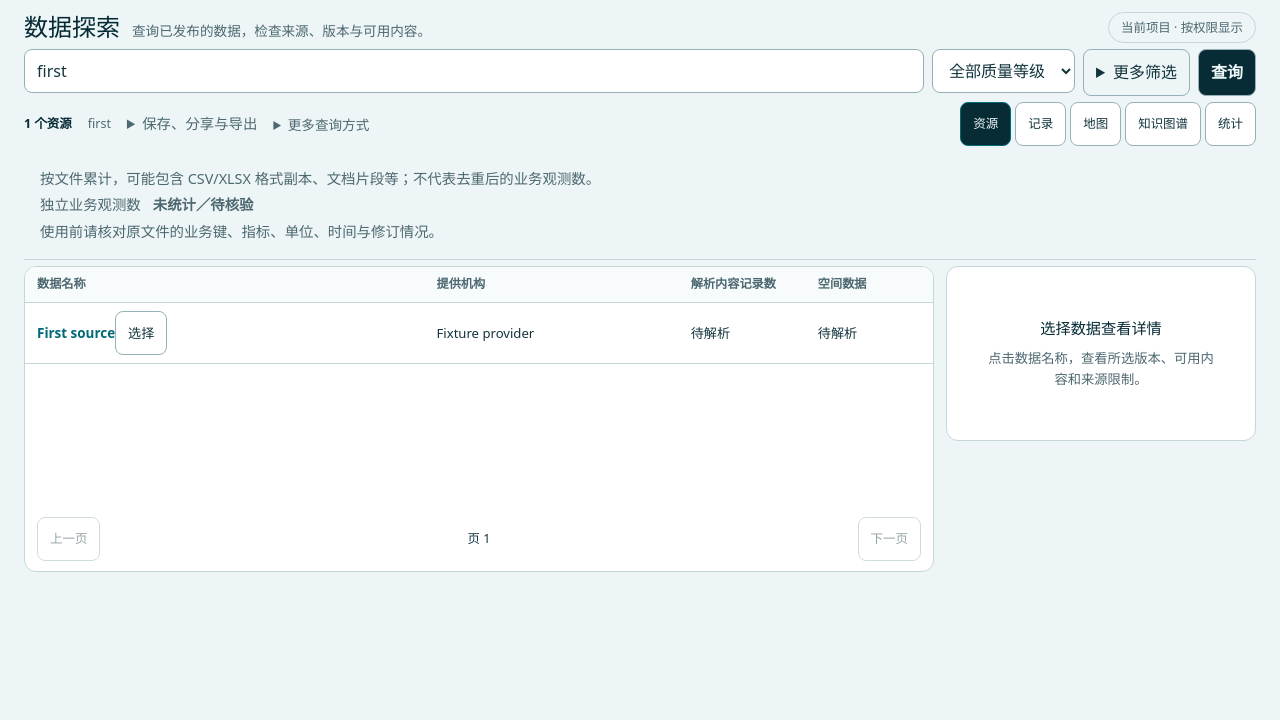
Scenario: exploration query navigation › keeps recoverable failures local and supports keyboard view navigation and clearing selection
Click the button with aria-label "First source" at (141, 333), box [115,311,167,355]
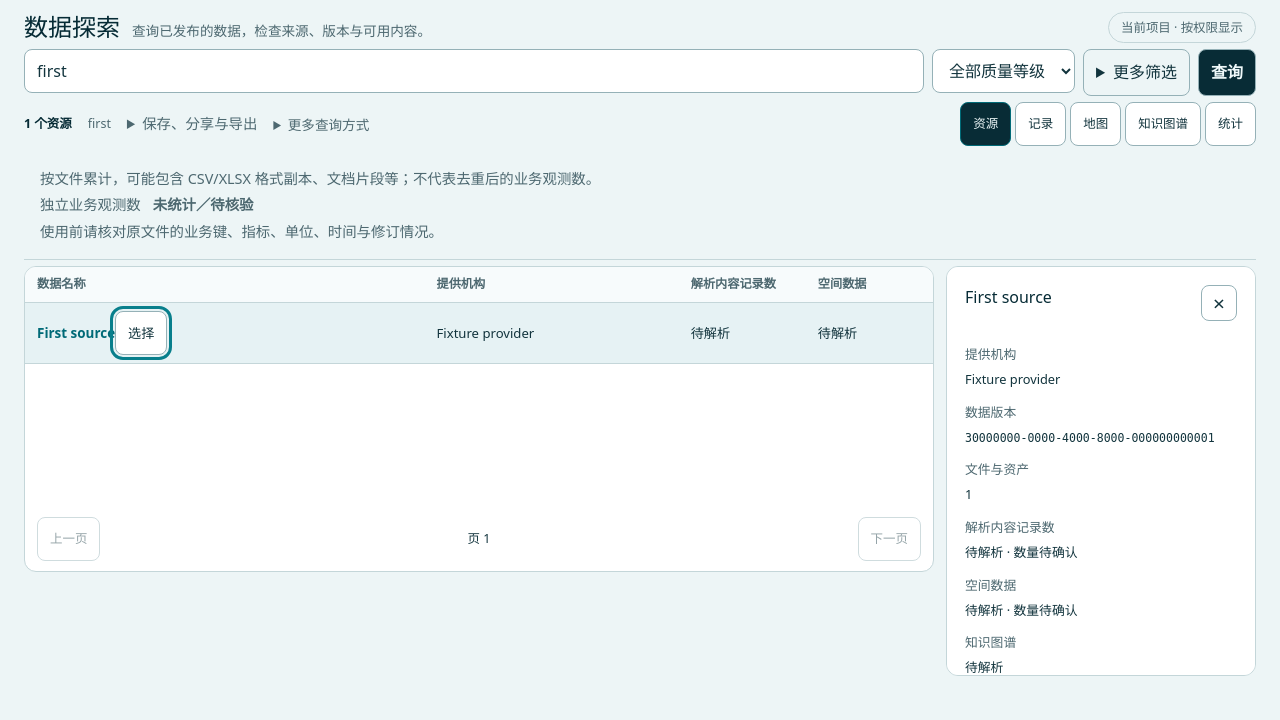
Click the button "×" at (1219, 303), box [1201,285,1237,321]
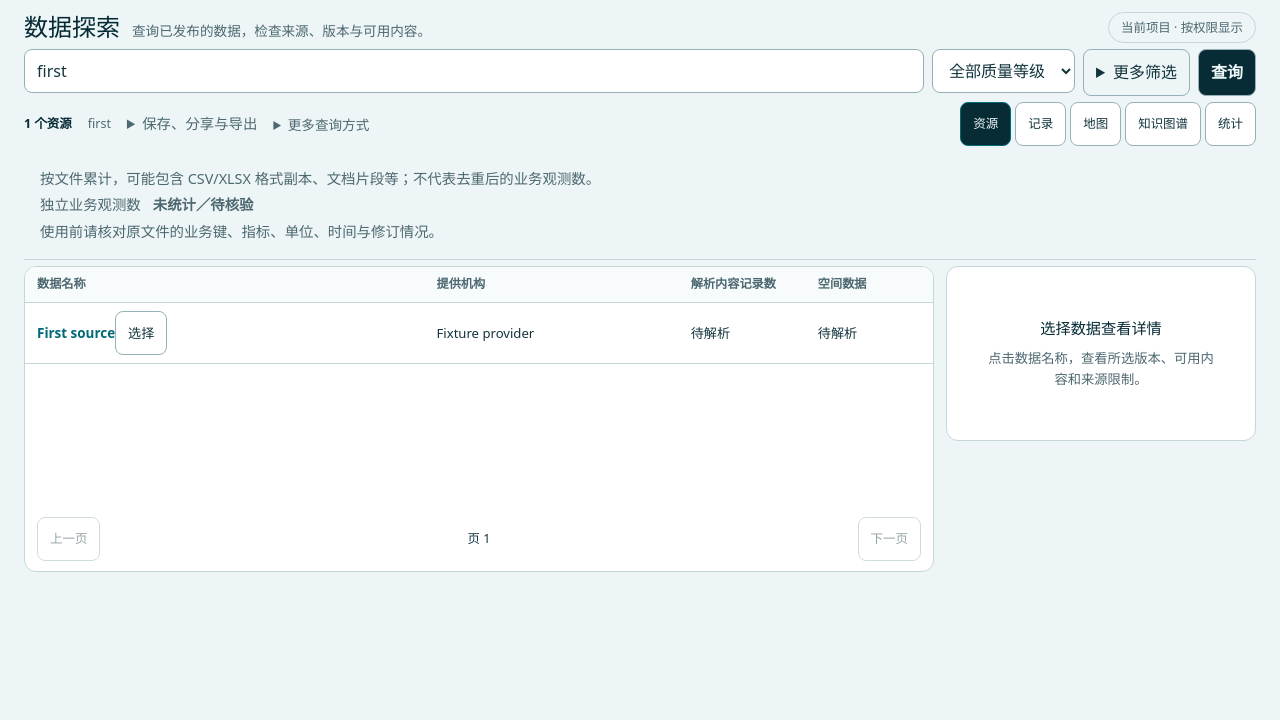
Check: the heading "选择数据查看详情" is shown, box [1040,318,1162,338]
Click the tab "资源" at (986, 124), box [960,102,1011,146]
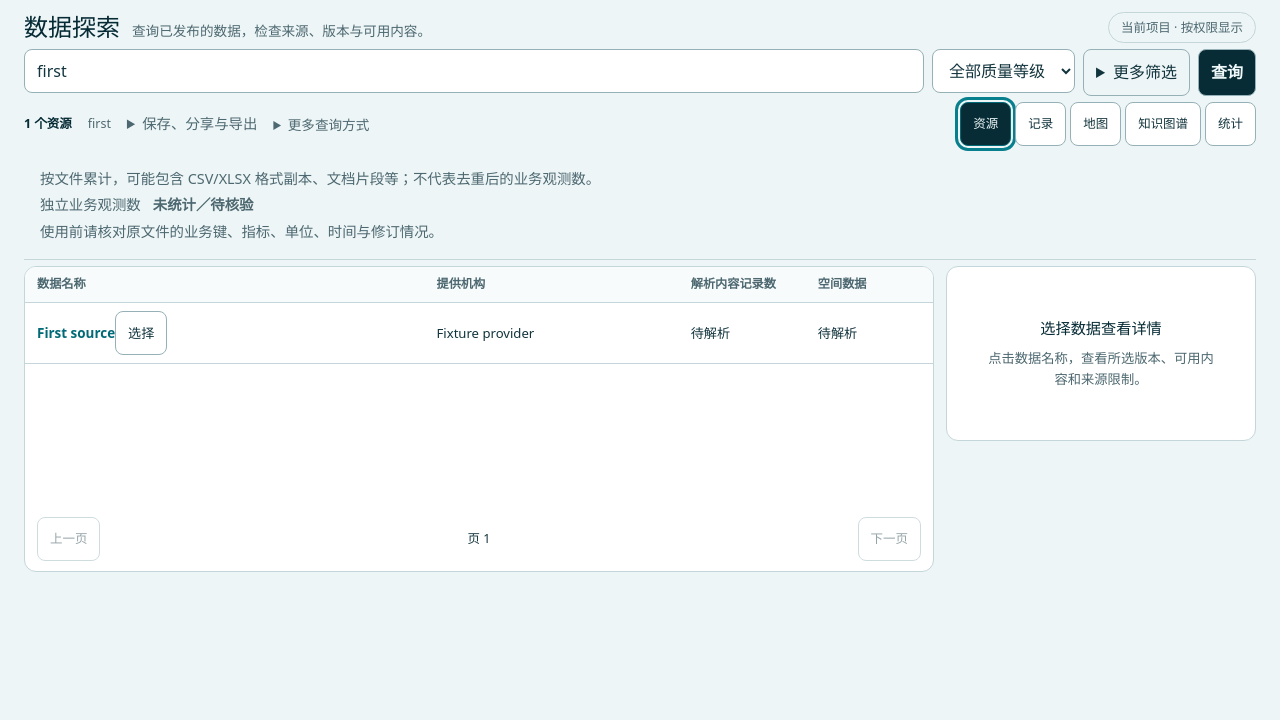
Press Arrowright
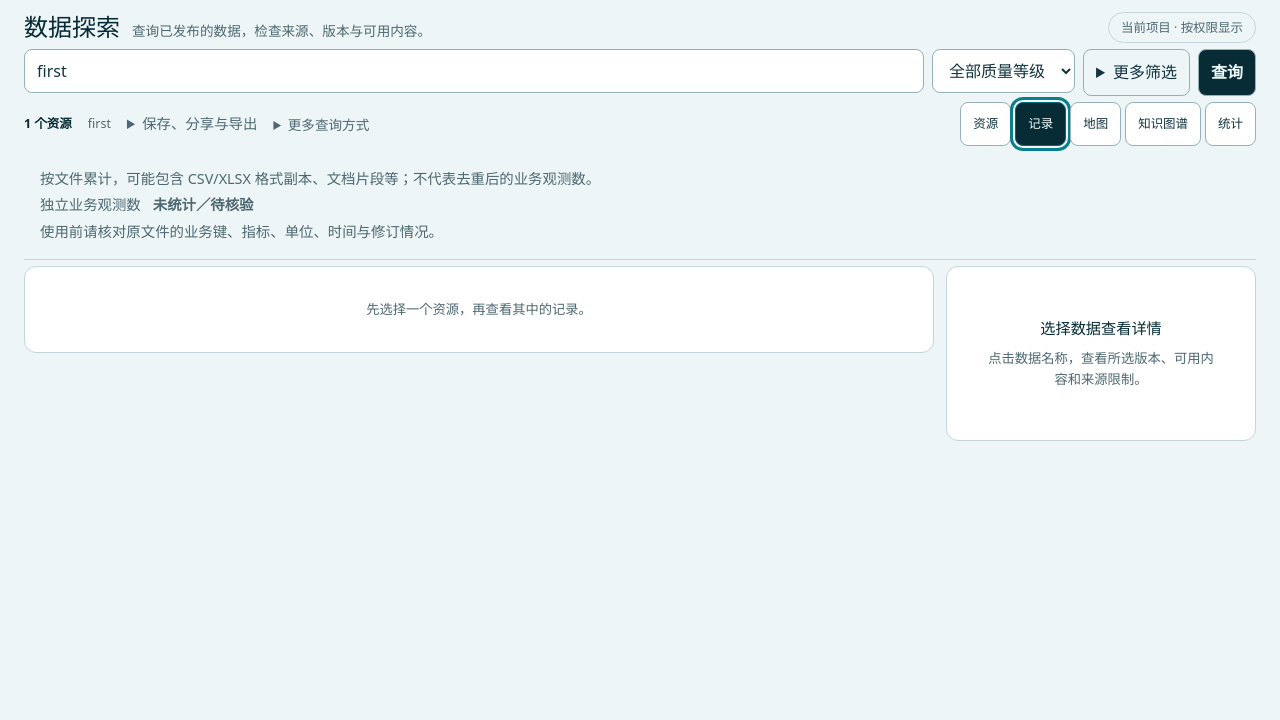
Check: the text "先选择一个资源，再查看其中的记录。" is shown, box [366,300,592,318]
Press Home
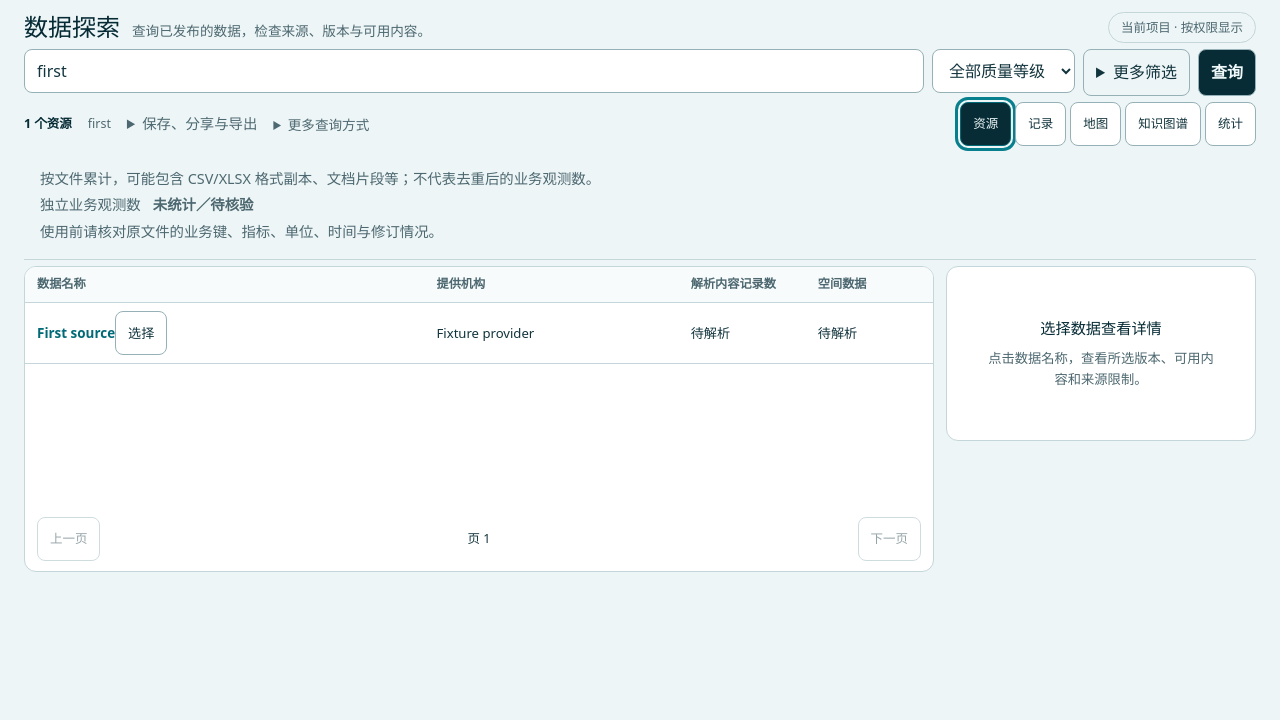
Click the button "查询" at (1227, 73), box [1198,49,1256,96]
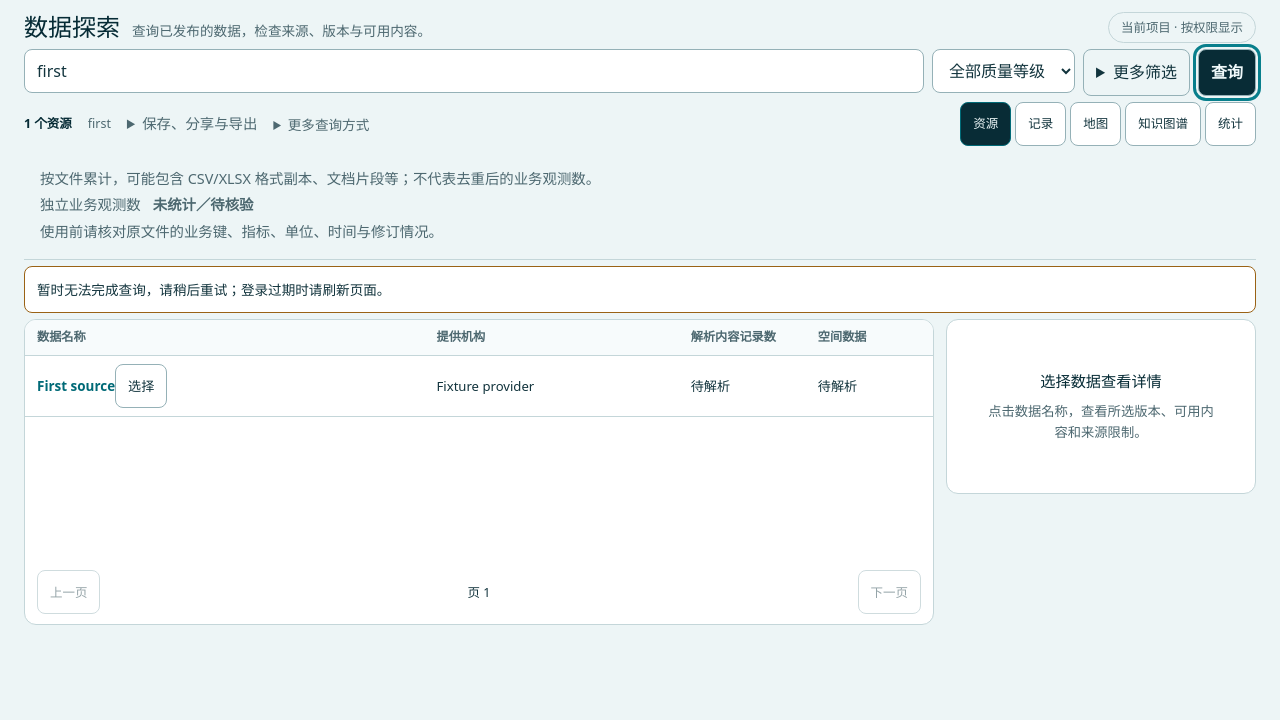
Check: the button with aria-label "First source" is shown, box [115,364,167,408]
Check: the message "暂时无法完成查询，请稍后重试；登录过期时请刷新页面。" is shown, box [24,266,1256,313]
